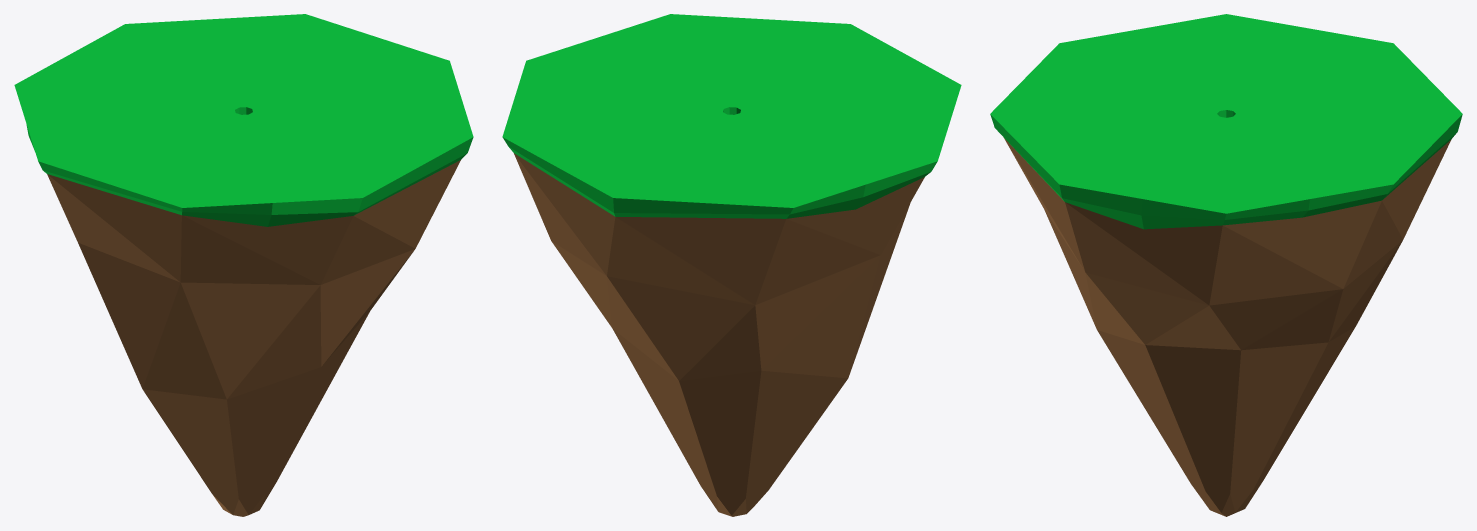
The model's file is floating_island_3.glb.
3 views of the same model, side by side, from view 1: azimuth 30°, elevation 25°; view 2: azimuth 150°, elevation 25°; view 3: azimuth 270°, elevation 25° (orthographic).
Visible parts, largest first — view 1: IslandSmall; view 2: IslandSmall; view 3: IslandSmall.
Part boxes in pixels (box(x1,y1,x2,y2)): IslandSmall: box(14, 14, 473, 516); IslandSmall: box(502, 14, 961, 516); IslandSmall: box(990, 14, 1462, 516).
Size of the model in its own units: 2 by 1.88 by 2.
